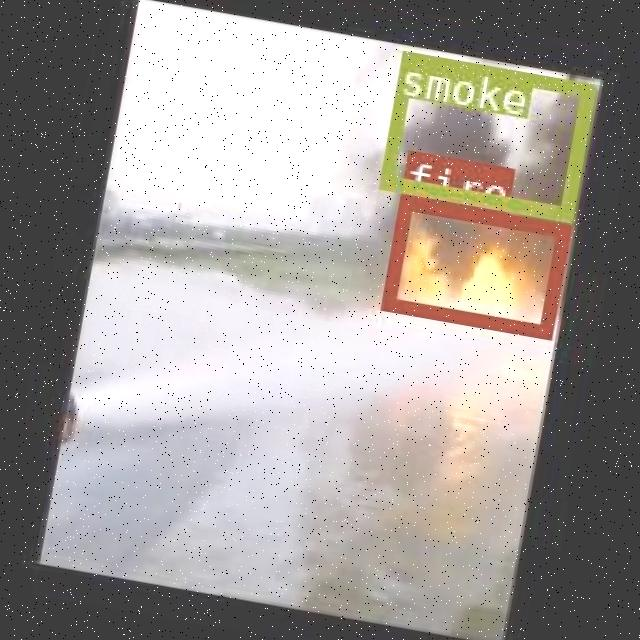fire: (380, 194, 569, 336)
smoke: (377, 49, 594, 219)
